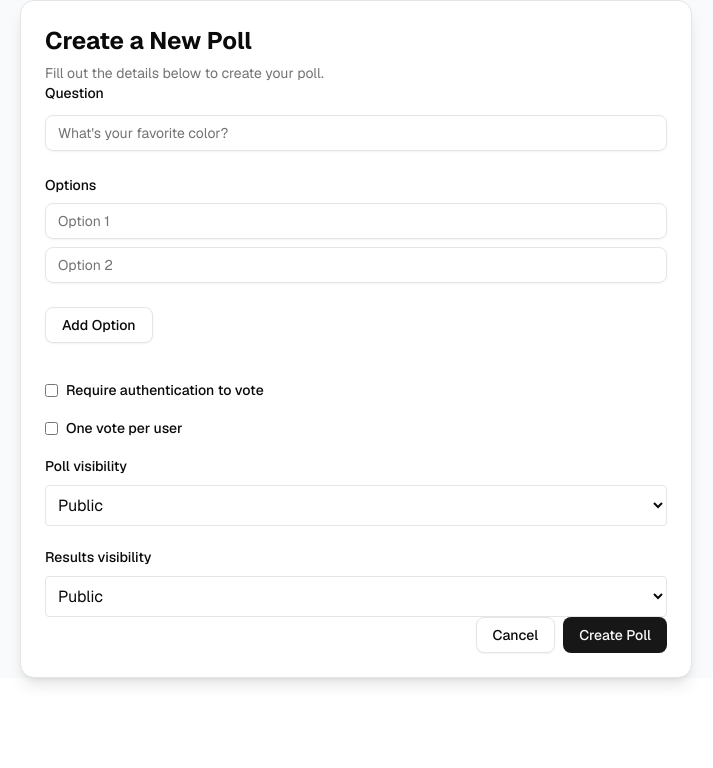
it: Poll Workflow Integration › Complete Poll Lifecycle › should allow adding multiple options to a poll
The image size is (713, 768).
# Add two more options
Click the button "Add Option" at {"x": 99, "y": 325}, box [45, 307, 153, 343]
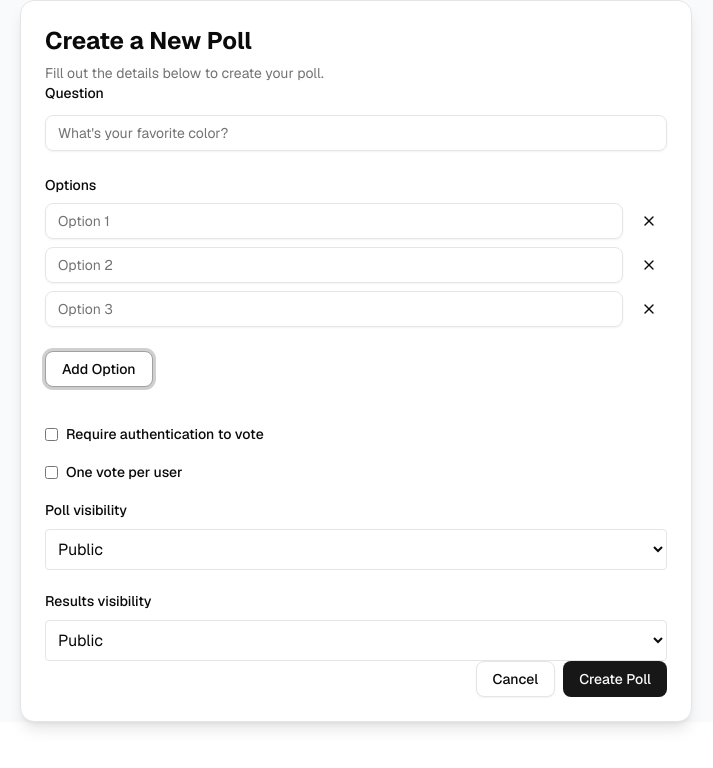
Click the button "Add Option" at {"x": 99, "y": 369}, box [45, 351, 153, 387]
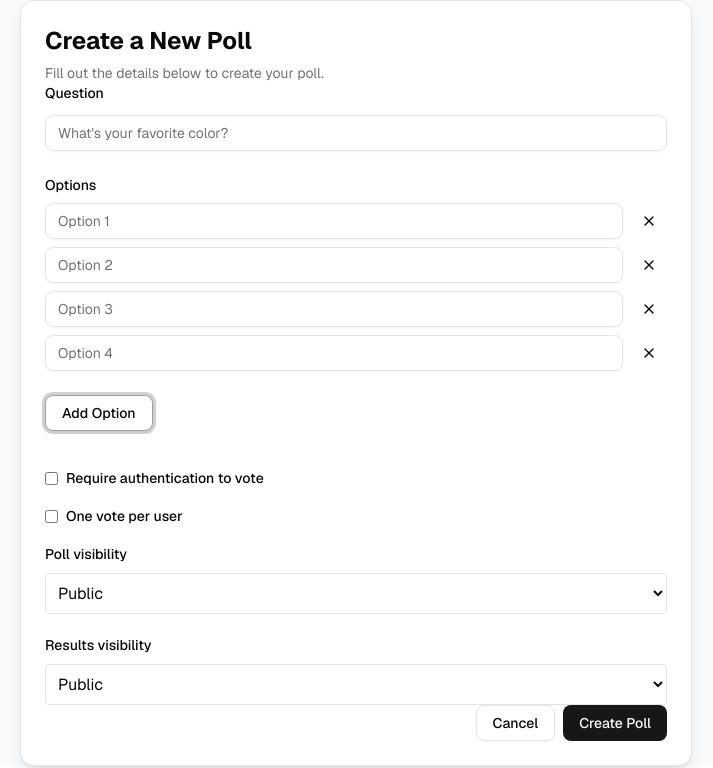
Expected: the field with placeholder "Option 1" is shown, [45, 203, 623, 239]
Expected: the field with placeholder "Option 3" is shown, [45, 291, 623, 327]
Expected: the field with placeholder "Option 4" is shown, [45, 335, 623, 371]
